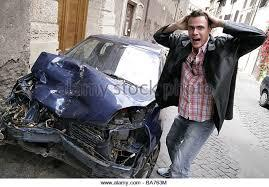Headlight-Damage: (110, 116, 151, 147)
bonnet-dent: (41, 53, 142, 112)
front-bumper-dent: (27, 114, 97, 165)
